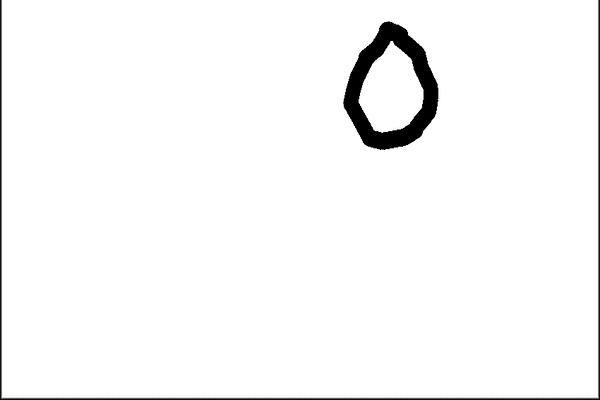O: (331, 12, 460, 157)
